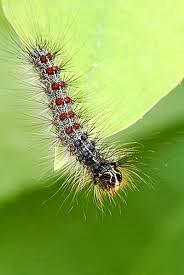Caterpillar: (22, 37, 127, 198)
